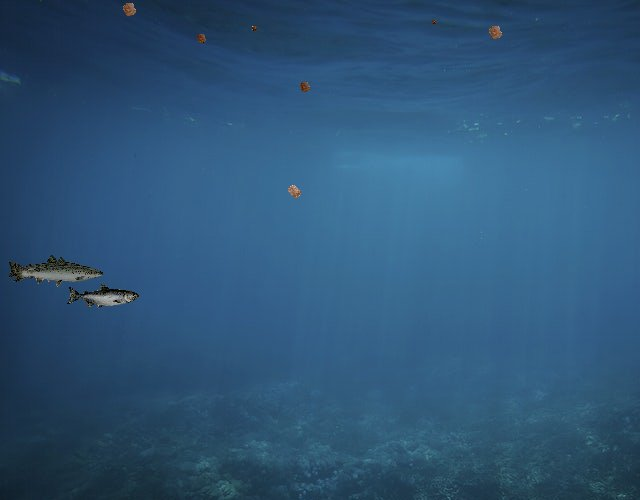Fish: (11, 255, 105, 289), (6, 253, 92, 284), (66, 283, 139, 309)
Pellet: (280, 178, 308, 206), (115, 0, 143, 24), (294, 76, 316, 98), (248, 22, 260, 34)
